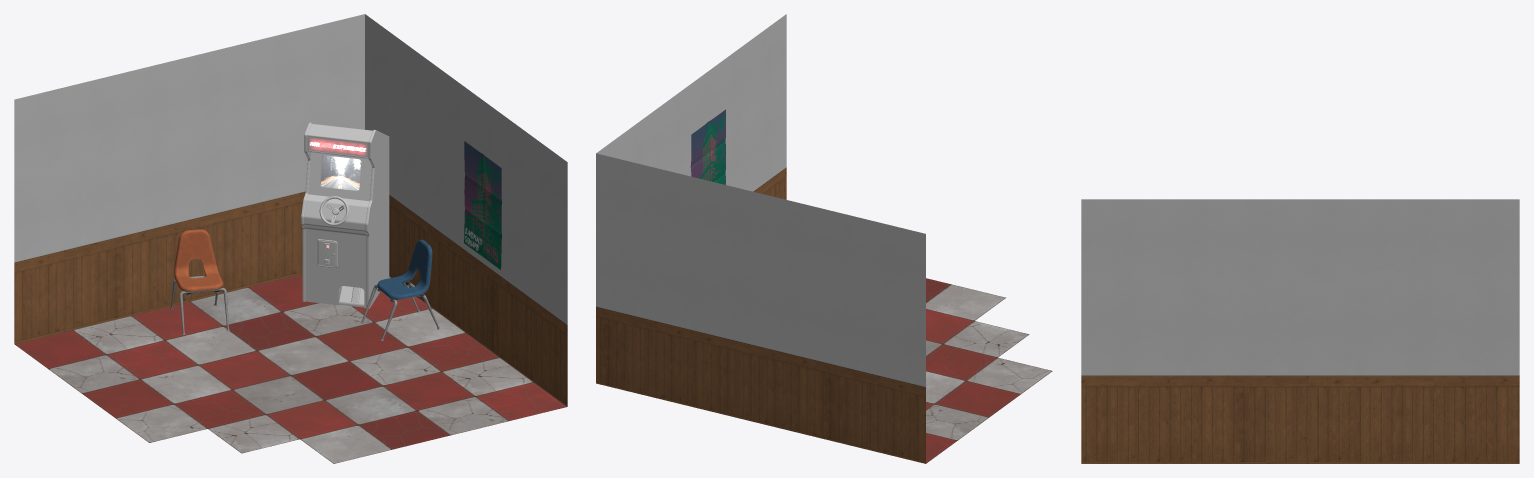
The model's file is Arcade.fbx.
3 renders of one model, left to right at view 1: azimuth 30°, elevation 25°; view 2: azimuth 150°, elevation 25°; view 3: azimuth 270°, elevation 25°, orthographic. The views are drawn at different scales.
Visible parts, largest first — view 1: Arch, Cabinet, Chair, poster; view 2: Arch, poster; view 3: Arch.
Boxes of the visible parts, <box> form: Arch: <box>14,14,567,463</box>; Cabinet: <box>301,122,389,308</box>; Chair: <box>170,229,439,340</box>; poster: <box>464,141,501,269</box>; Arch: <box>596,14,1052,463</box>; poster: <box>690,109,725,184</box>; Arch: <box>1081,199,1519,463</box>.
Size of the model in its own units: 3.75 by 2.5 by 3.75.
